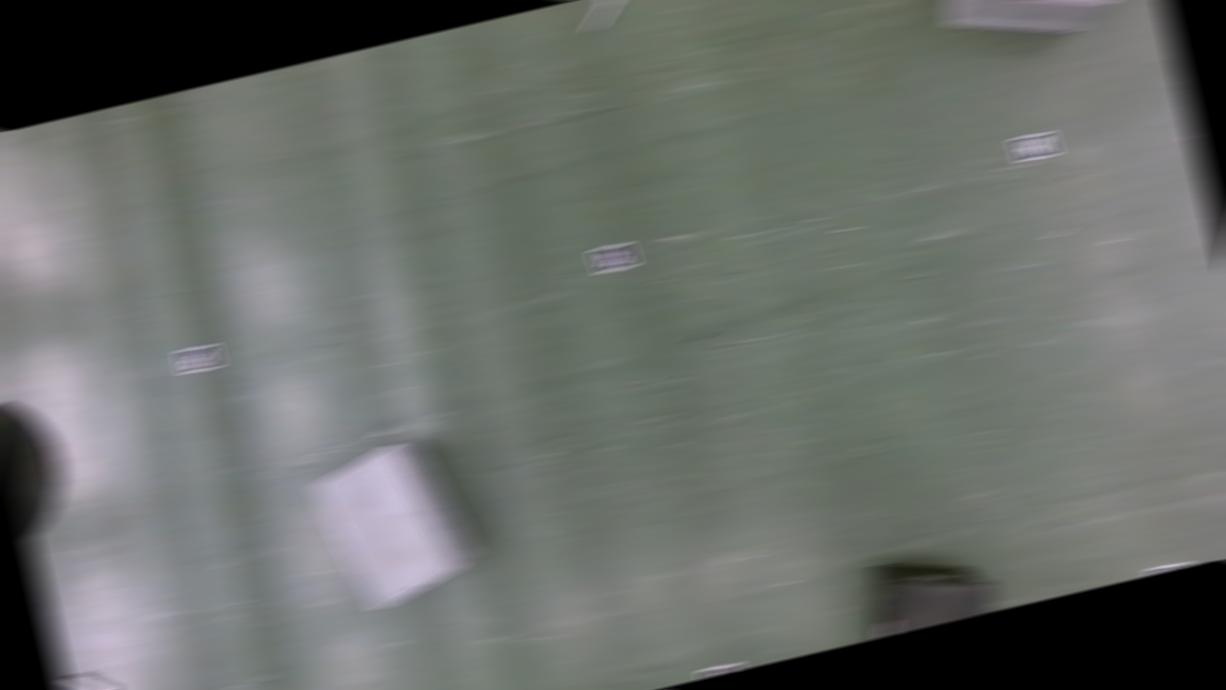probes: (578, 1, 626, 34), (58, 664, 118, 690)
rako: (308, 429, 482, 622), (843, 542, 1002, 640), (916, 1, 1148, 66)
